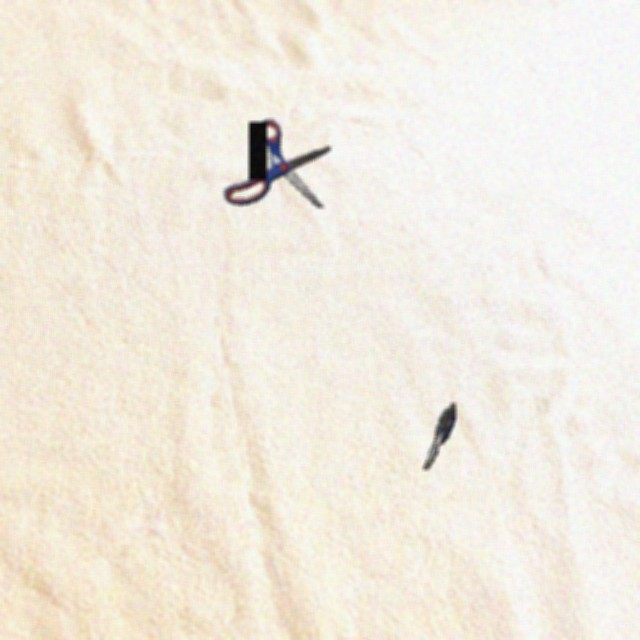scissors: (223, 119, 331, 208), (423, 403, 456, 470)
